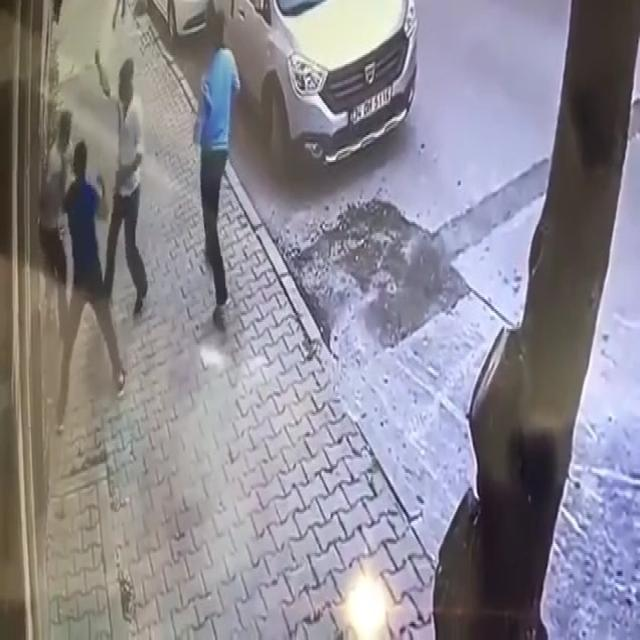fight: (37, 108, 126, 430)
